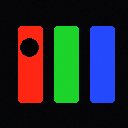2 circle: (20, 38, 38, 56)
